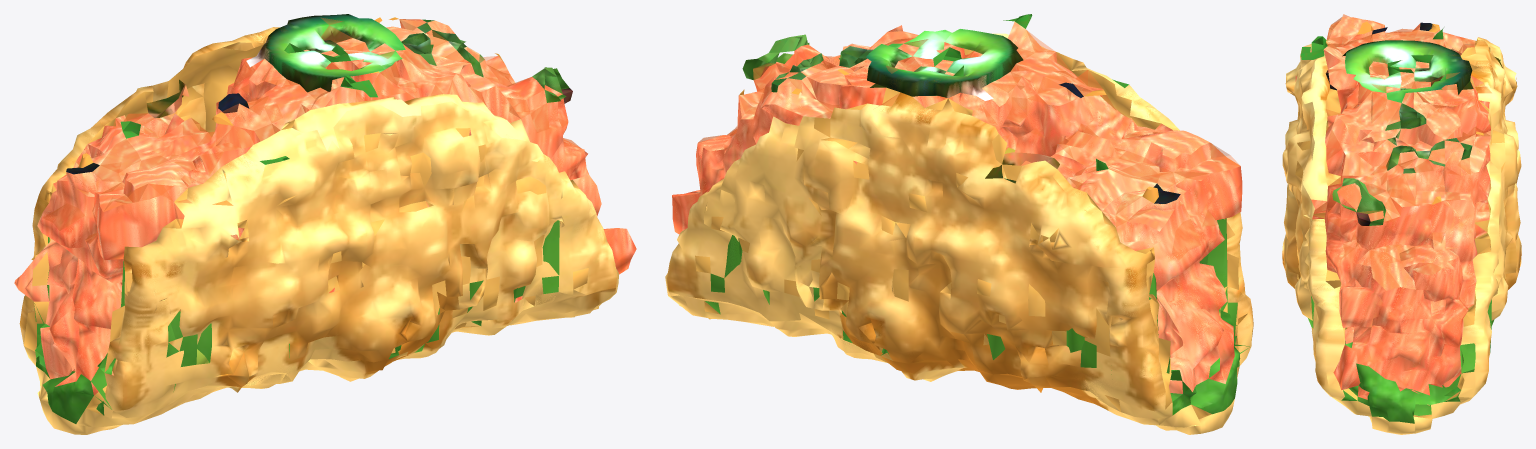
The model's file is tuna_taco_lite.glb.
3 views of the same model, side by side, from view 1: azimuth 30°, elevation 25°; view 2: azimuth 150°, elevation 25°; view 3: azimuth 270°, elevation 25° (orthographic). The views are drawn at different scales.
Visible parts, largest first — view 1: ing_wonton, ing_tuna, ing_toroSauce, ing_jalapeno, ing_lettuce, ing_scallion, ing_coriander, ing_sesame; view 2: ing_wonton, ing_tuna, ing_toroSauce, ing_jalapeno, ing_lettuce, ing_scallion, ing_coriander; view 3: ing_tuna, ing_wonton, ing_toroSauce, ing_jalapeno, ing_lettuce, ing_scallion, ing_coriander, ing_sesame, ing_garlic.
Boxes of the visible parts, x1=… form: ing_wonton: x1=19, y1=27, x2=618, y2=434; ing_tuna: x1=14, y1=19, x2=636, y2=395; ing_toroSauce: x1=43, y1=18, x2=581, y2=244; ing_jalapeno: x1=246, y1=14, x2=405, y2=92; ing_lettuce: x1=34, y1=220, x2=559, y2=423; ing_scallion: x1=146, y1=19, x2=569, y2=118; ing_coriander: x1=120, y1=43, x2=377, y2=164; ing_sesame: x1=66, y1=88, x2=572, y2=174; ing_wonton: x1=665, y1=33, x2=1253, y2=434; ing_tuna: x1=672, y1=21, x2=1242, y2=393; ing_toroSauce: x1=698, y1=30, x2=1239, y2=259; ing_jalapeno: x1=866, y1=29, x2=1023, y2=100; ing_lettuce: x1=705, y1=218, x2=1249, y2=415; ing_scallion: x1=742, y1=34, x2=1059, y2=183; ing_coriander: x1=933, y1=14, x2=1128, y2=170; ing_tuna: x1=1295, y1=16, x2=1491, y2=405; ing_wonton: x1=1282, y1=37, x2=1521, y2=434; ing_toroSauce: x1=1313, y1=14, x2=1491, y2=290; ing_jalapeno: x1=1342, y1=40, x2=1473, y2=102; ing_lettuce: x1=1308, y1=296, x2=1494, y2=423; ing_scallion: x1=1332, y1=48, x2=1502, y2=225; ing_coriander: x1=1300, y1=28, x2=1443, y2=75; ing_sesame: x1=1325, y1=22, x2=1432, y2=225; ing_garlic: x1=1357, y1=21, x2=1483, y2=204.
Size of the model in its own units: 0.1284 by 0.0748 by 0.0575.
Materials: 2 (2 with a texture image).
